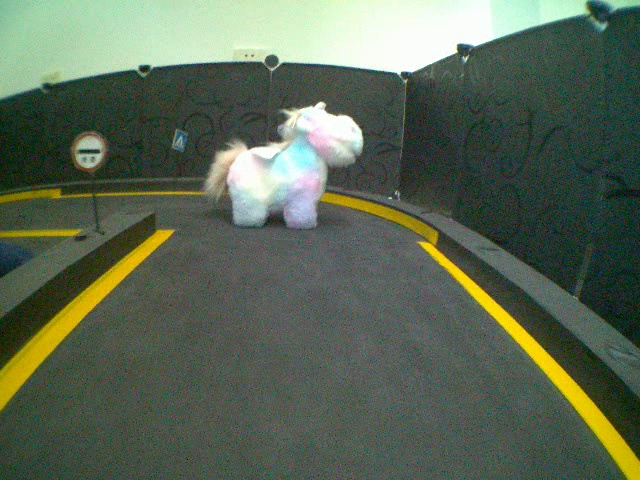unicorn: (202, 101, 368, 232)
